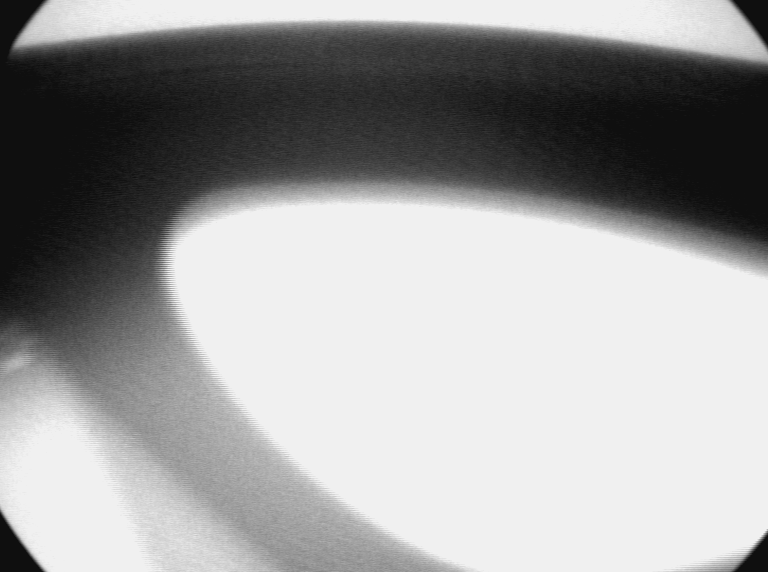defect: (3, 348, 41, 378)
